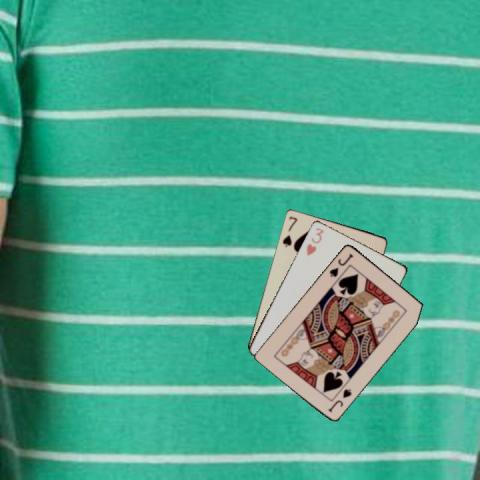3h: (303, 225, 326, 256)
7s: (279, 213, 299, 249)
Js: (326, 250, 355, 278), (326, 385, 354, 414)
